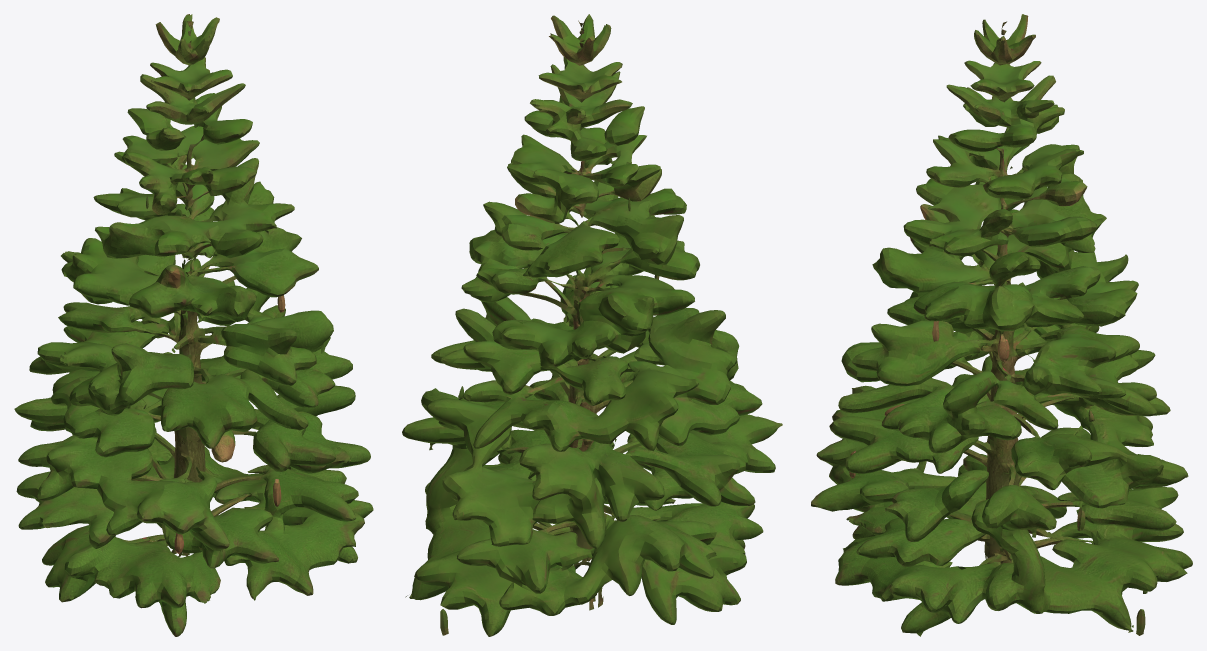
Rendered from veg_conifer_spruce_01.glb.
The picture shows the model from 3 angles, left to right: view 1: azimuth 30°, elevation 25°; view 2: azimuth 150°, elevation 25°; view 3: azimuth 270°, elevation 25°; orthographic projection. The views are drawn at different scales.
Visible parts, largest first — view 1: veg_conifer_spruce_01; view 2: veg_conifer_spruce_01; view 3: veg_conifer_spruce_01.
Boxes of the visible parts, x1=… form: veg_conifer_spruce_01: x1=14, y1=14, x2=373, y2=636; veg_conifer_spruce_01: x1=402, y1=14, x2=782, y2=636; veg_conifer_spruce_01: x1=811, y1=14, x2=1192, y2=636.
Bounding box in the file's own units: 10.97 × 18.46 × 11.
1 material, 1 textured.
